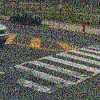crosswalk: (11, 43, 100, 91)
